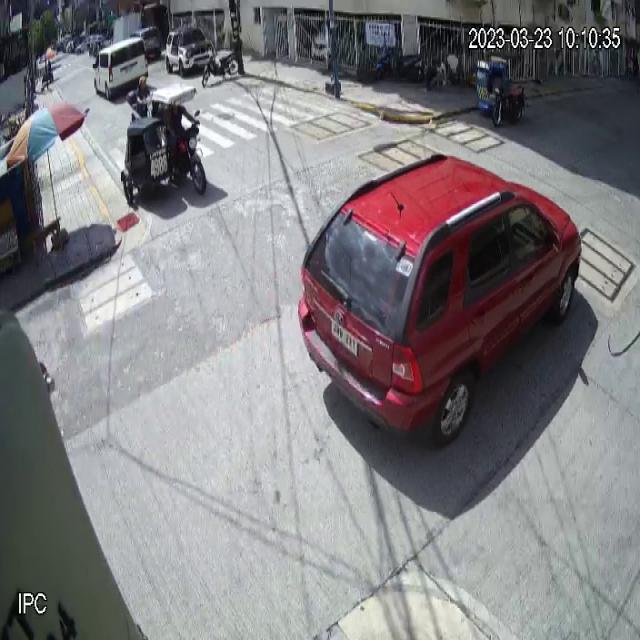Car: (290, 147, 584, 456)
Motorcycle: (202, 48, 240, 88)
Tricycle: (120, 86, 208, 209), (476, 52, 527, 127)
Van: (93, 37, 149, 100)
